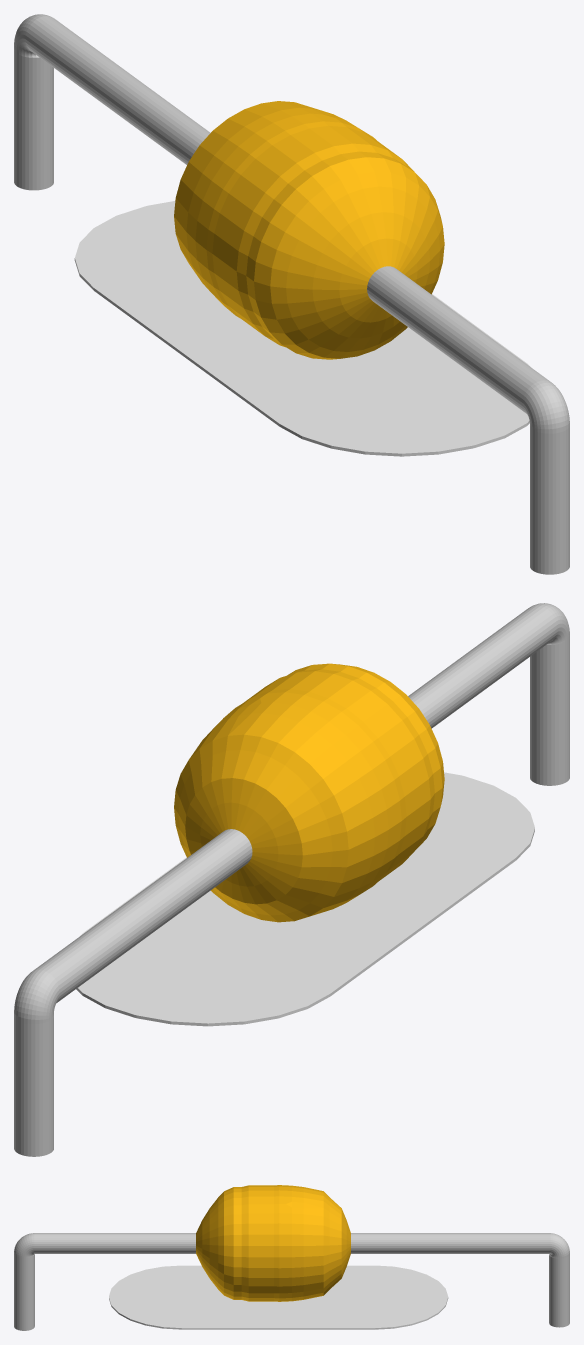
Rendered from yellow_cap_5.gltf.
The picture shows the model from 3 angles, top to bottom: view 1: azimuth 30°, elevation 25°; view 2: azimuth 150°, elevation 25°; view 3: azimuth 270°, elevation 25°; orthographic projection. The views are drawn at different scales.
Visible parts, largest first — view 1: yellow_cap_5, yellow_cap_5_plane; view 2: yellow_cap_5, yellow_cap_5_plane; view 3: yellow_cap_5, yellow_cap_5_plane.
Part boxes in pixels (box(x1,y1,x2,y2)): yellow_cap_5: box(14, 14, 569, 574); yellow_cap_5_plane: box(74, 201, 530, 456); yellow_cap_5: box(14, 603, 569, 1156); yellow_cap_5_plane: box(76, 772, 534, 1026); yellow_cap_5: box(14, 1185, 569, 1330); yellow_cap_5_plane: box(109, 1265, 448, 1329).
Size of the model in its own units: 0.018 by 0.0183 by 0.0676.
